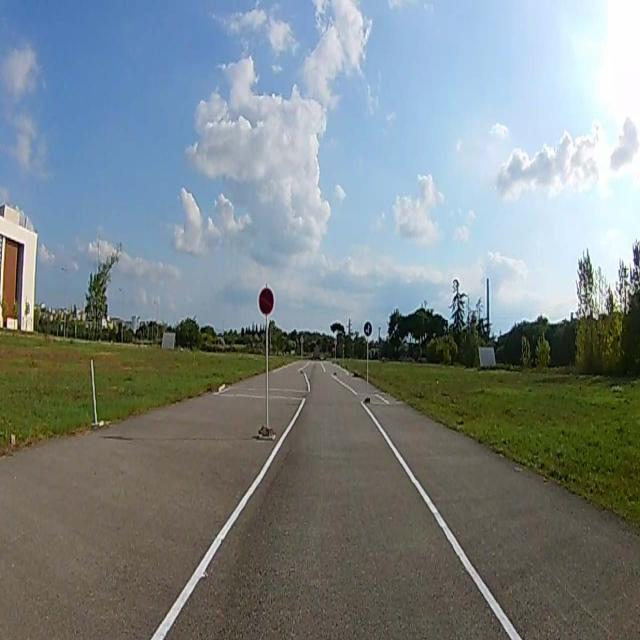parkyasak: (257, 288, 274, 314)
